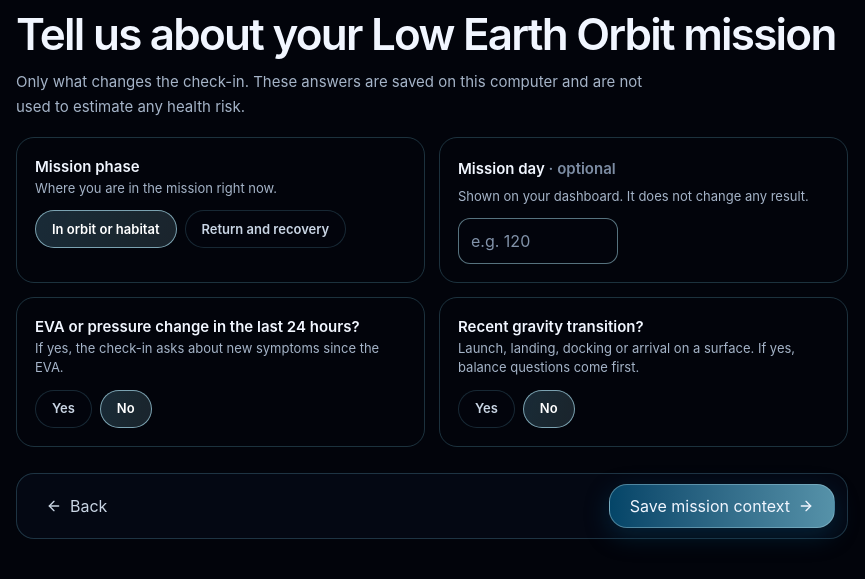
Test: ContextPage › offers only the phases of the chosen mission and validates the mission day
Later steps or results of the test are not shown.
Expected: the radio buttons read "In orbit or habitat", "Return and recovery", in this order, left=35, top=210, right=176, bottom=248; left=184, top=210, right=346, bottom=248
Type "0" into the field labelled "Mission day · optional".
click(538, 241); type("0")  # box left=458, top=218, right=618, bottom=264
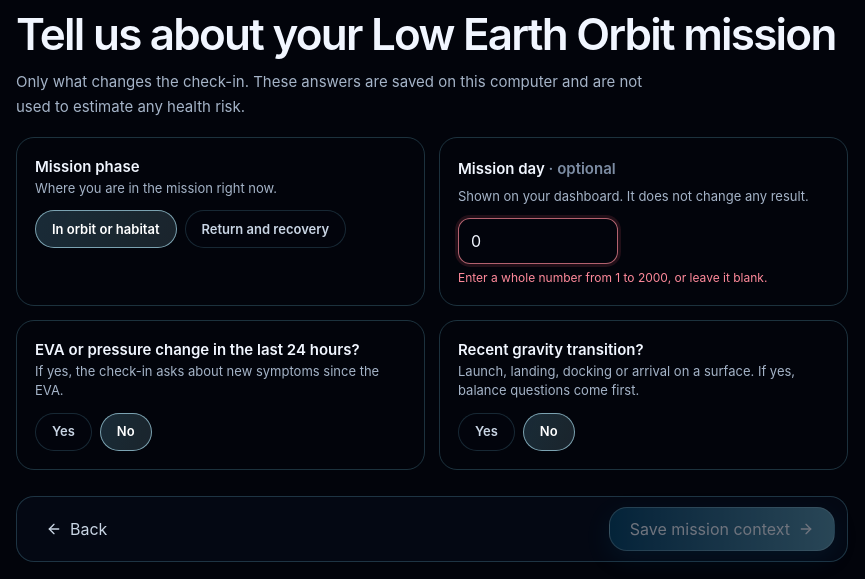
Expected: the text "Enter a whole number from 1 to 2000, or leave it blank." is shown, left=458, top=270, right=767, bottom=285
Expected: the button "Save mission context" is disabled, left=609, top=506, right=835, bottom=550
